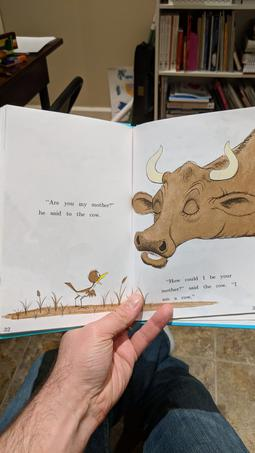text block: (31, 192, 118, 221), (153, 273, 249, 295)
